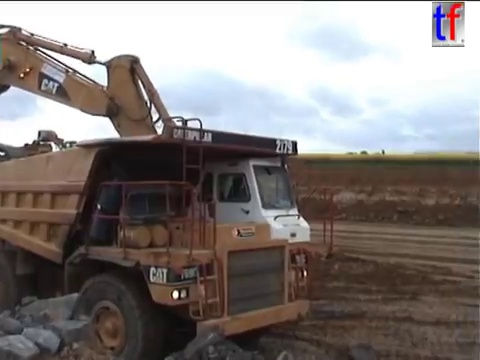excavator: (1, 19, 189, 217)
truck: (1, 112, 314, 360)
wheel loader: (35, 127, 92, 169)
